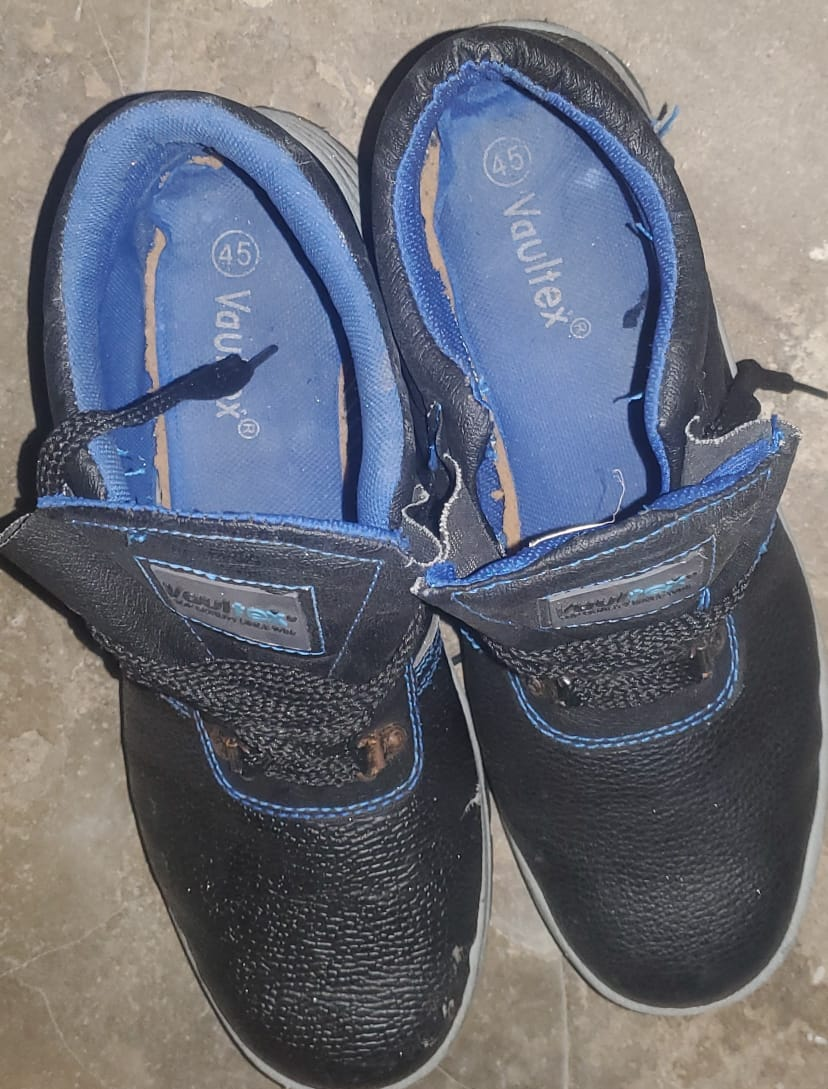safetyboot: (10, 35, 828, 1089)
